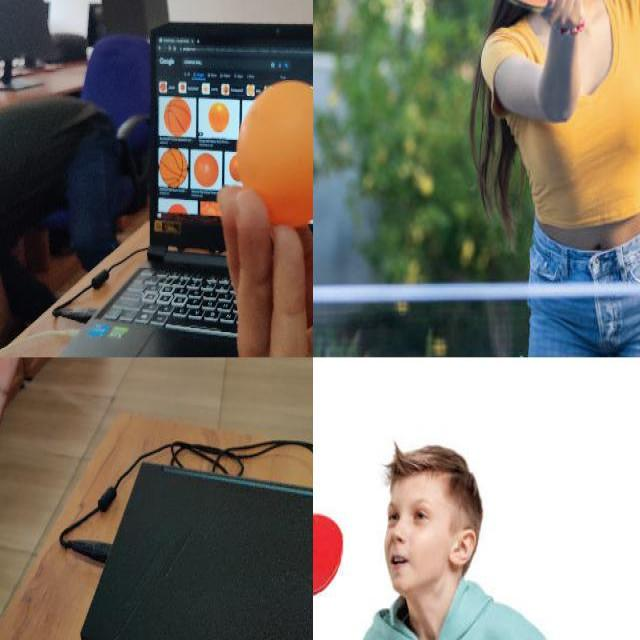ping-pong-ball: (236, 80, 312, 229)
